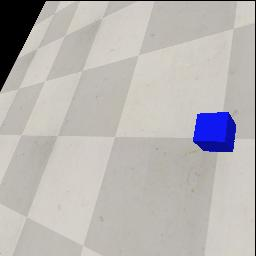box: (193, 112, 236, 152)
